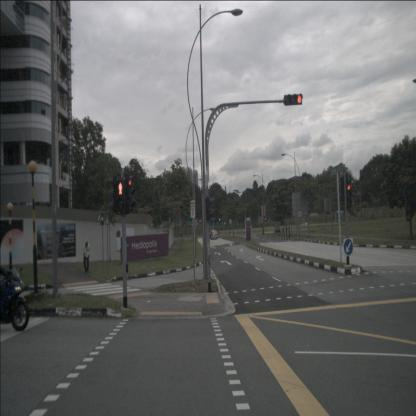human-pedestrian-adult: (82, 241, 90, 274)
vehicle-car: (210, 231, 218, 240), (209, 230, 215, 238)
vehicle-motorcycle: (0, 265, 30, 332)
